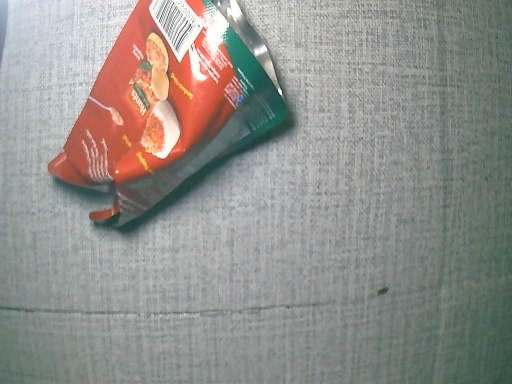plastic: (45, 1, 296, 233)
